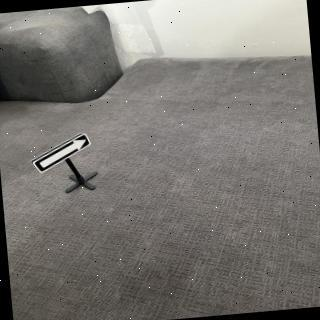sign_oneway_right: (29, 132, 96, 177)
